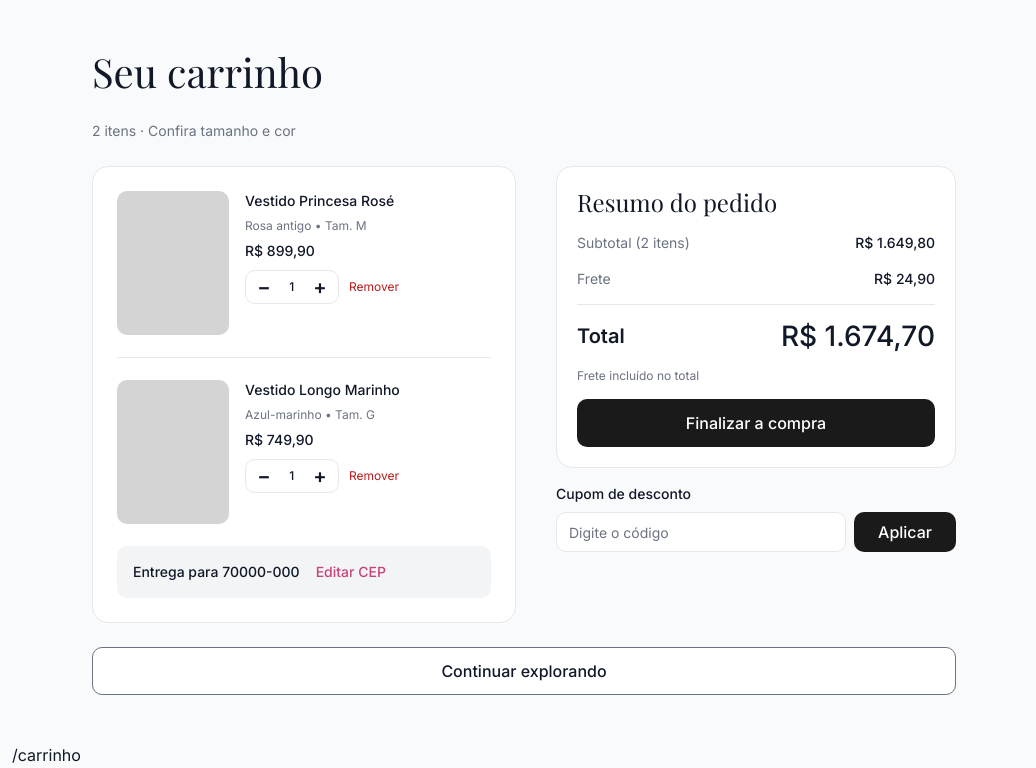
Test: CarrinhoPage › com itens › Finalizar a compra leva ao checkout
Click the button "Finalizar a compra" at (756, 423), box [577, 399, 935, 447]
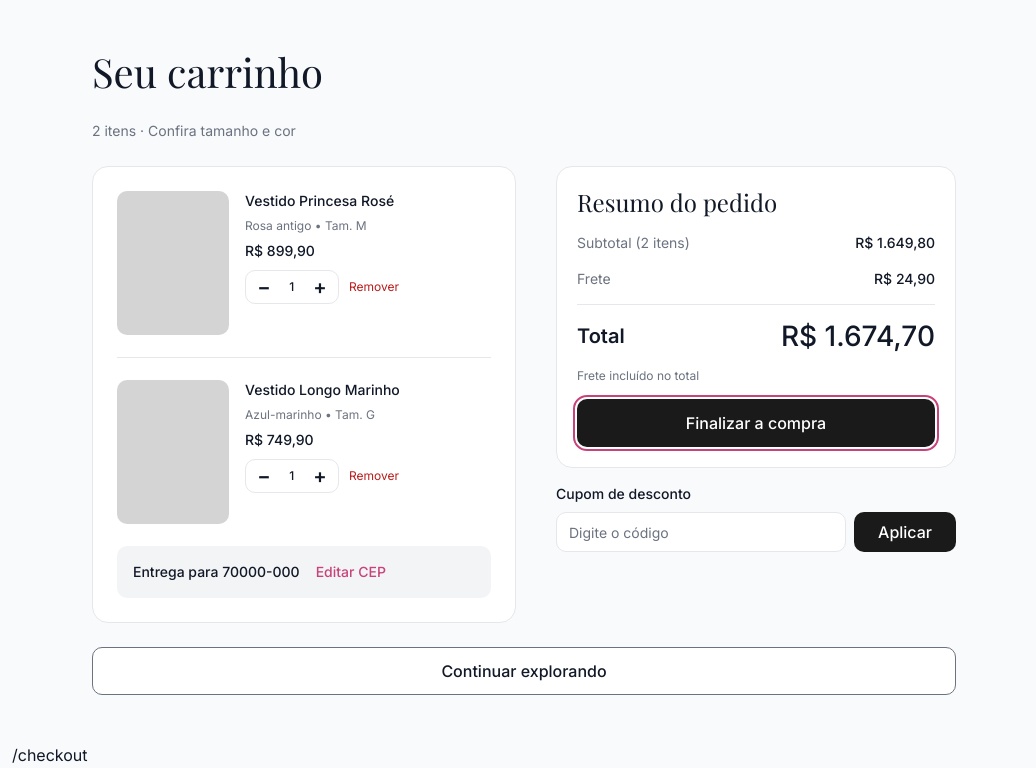
Check: the text with test id "location" reads "/checkout", box [12, 745, 88, 765]
